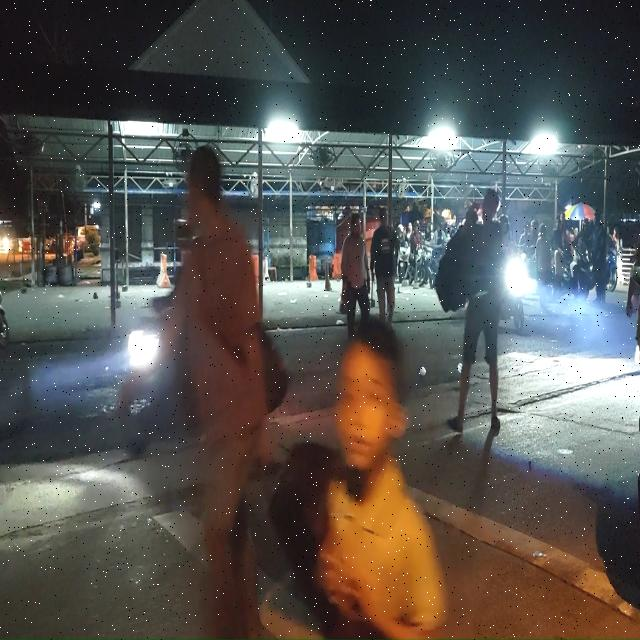Golongan II: (118, 323, 173, 456), (501, 256, 536, 334), (408, 247, 428, 286), (428, 245, 445, 289), (397, 239, 411, 283), (606, 250, 618, 292)
